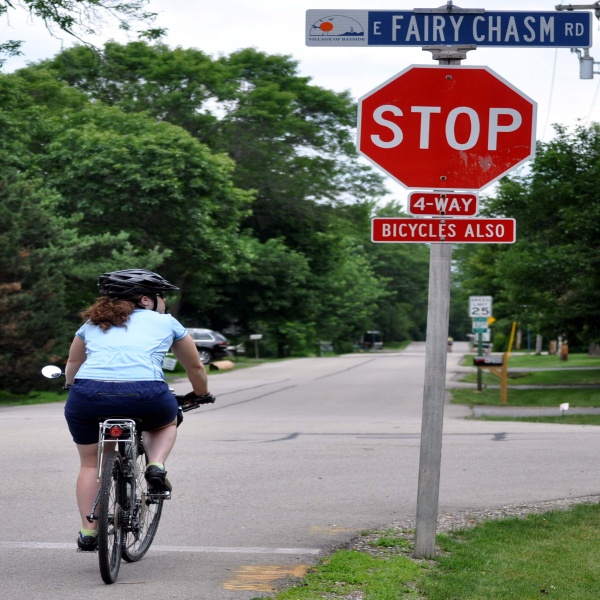stop: (354, 62, 540, 194)
